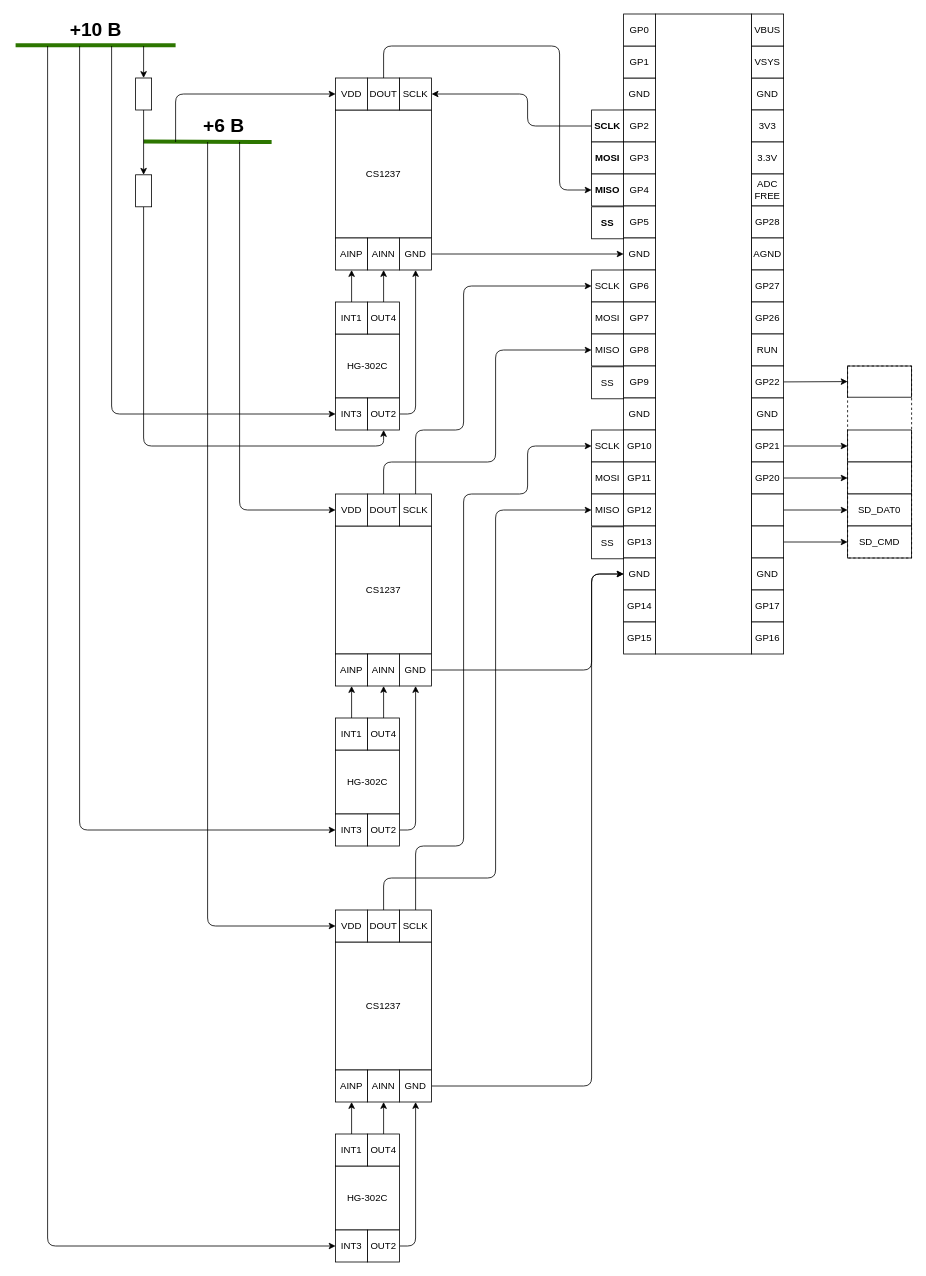
Image size: 926x1276. Some labels were removed from this diagram. The centre of each missing label's shape, as x and y in pixels:
"GP18" belongs at (767,541).
"GP19" belongs at (767,509).
"Raspberri_Pi_Pico RP2040" belongs at (703,333).
"SD_DAT1" belongs at (879,477).
"SD_DAT2" belongs at (879,445).
"SD_DAT3/CD" belongs at (879,381).
